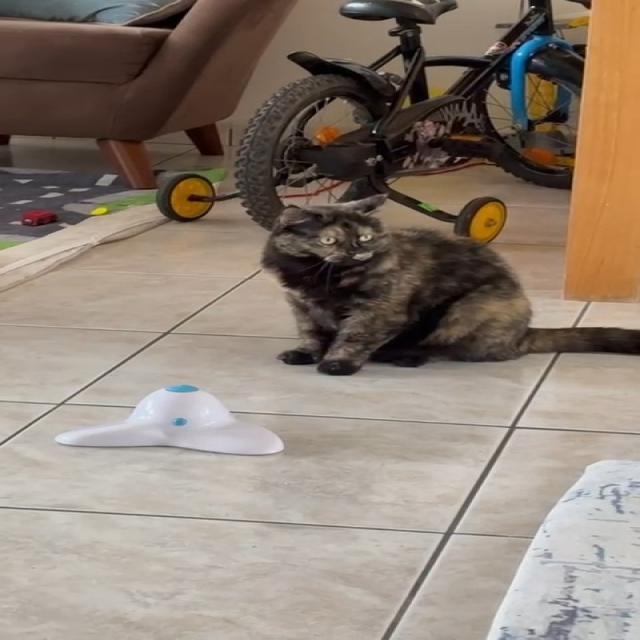authorized: (258, 192, 638, 375)
